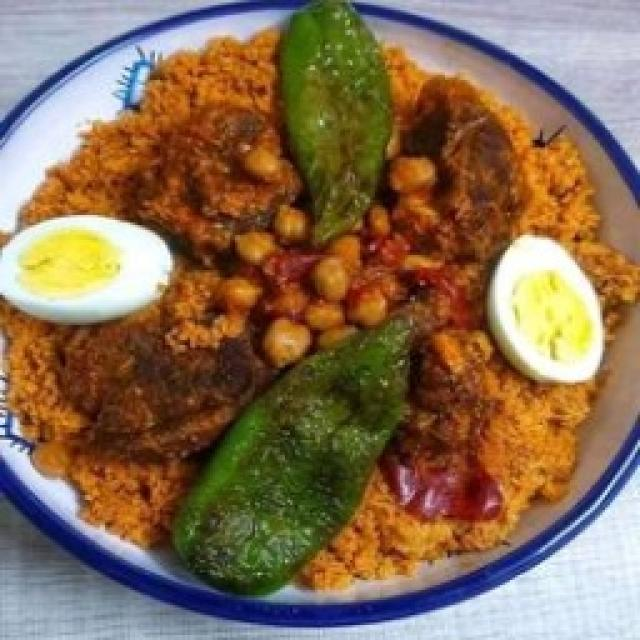Couscous: (2, 22, 640, 592)
